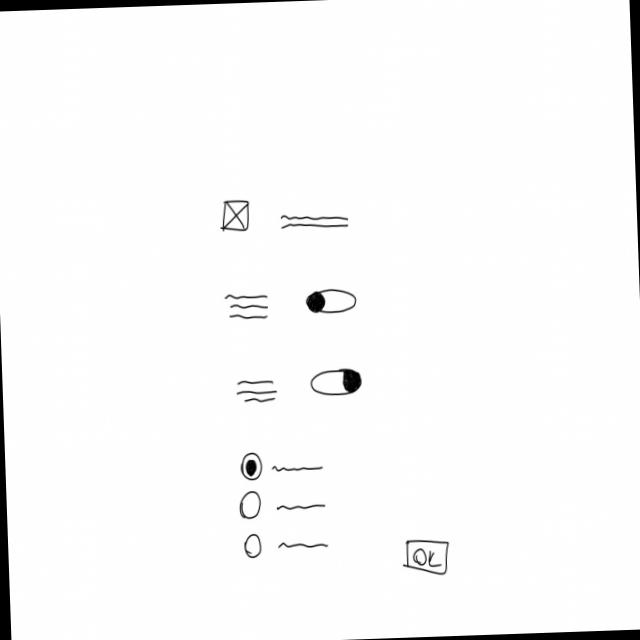button: (404, 536, 452, 578)
image: (220, 199, 252, 234)
radio: (240, 448, 326, 484), (240, 488, 328, 522), (244, 530, 331, 561)
textbox: (280, 211, 350, 234), (224, 292, 272, 324), (235, 378, 279, 407)
toggle: (309, 367, 365, 398), (306, 286, 359, 317)
